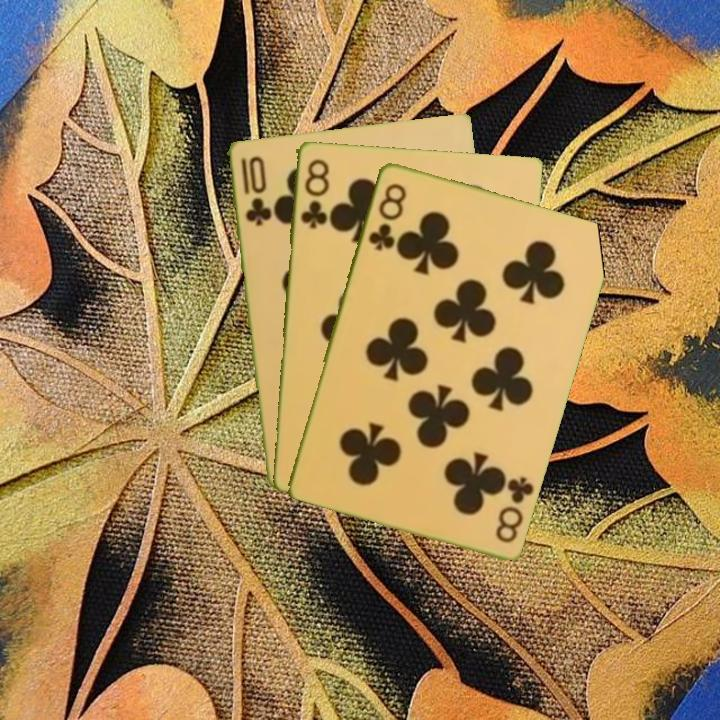10c: (236, 152, 272, 228)
8c: (491, 472, 537, 546), (364, 179, 409, 253), (296, 155, 332, 231)
